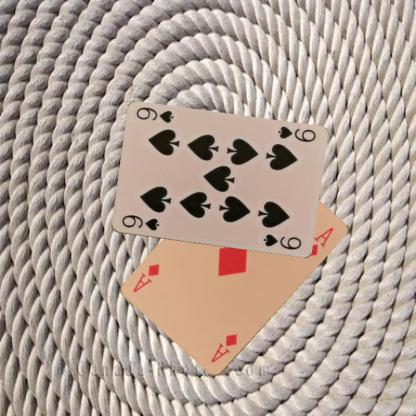9s: (275, 123, 317, 144), (119, 212, 161, 232)
Ad: (208, 331, 239, 365)
